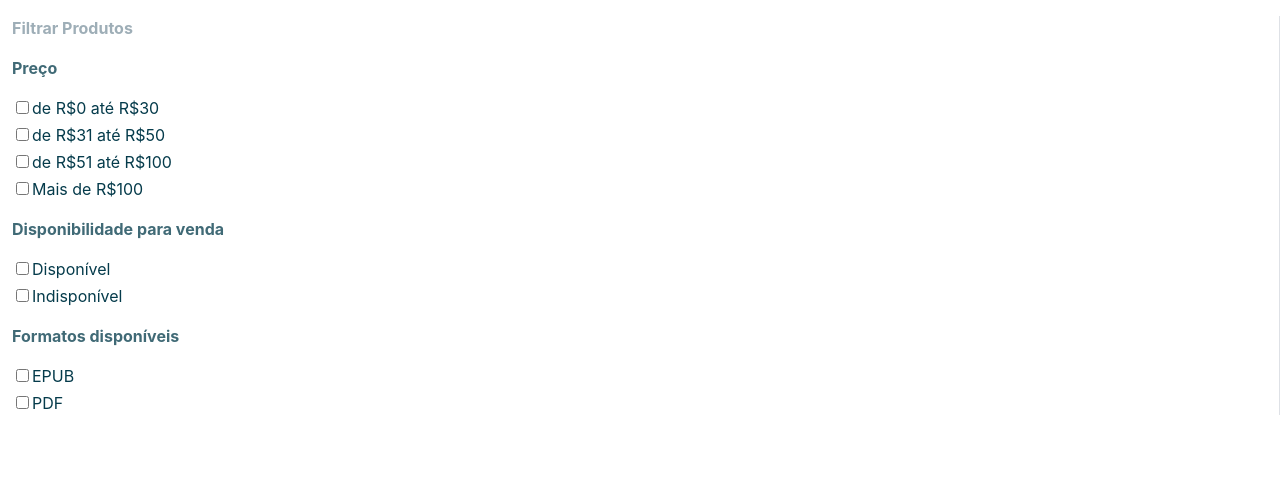
Test: Filter Component › deve exibir o botão de limpar filtro quando há itens selecionados
Click the checkbox next to "de R$0 até R$30" at (22, 108), box [16,101,29,114]
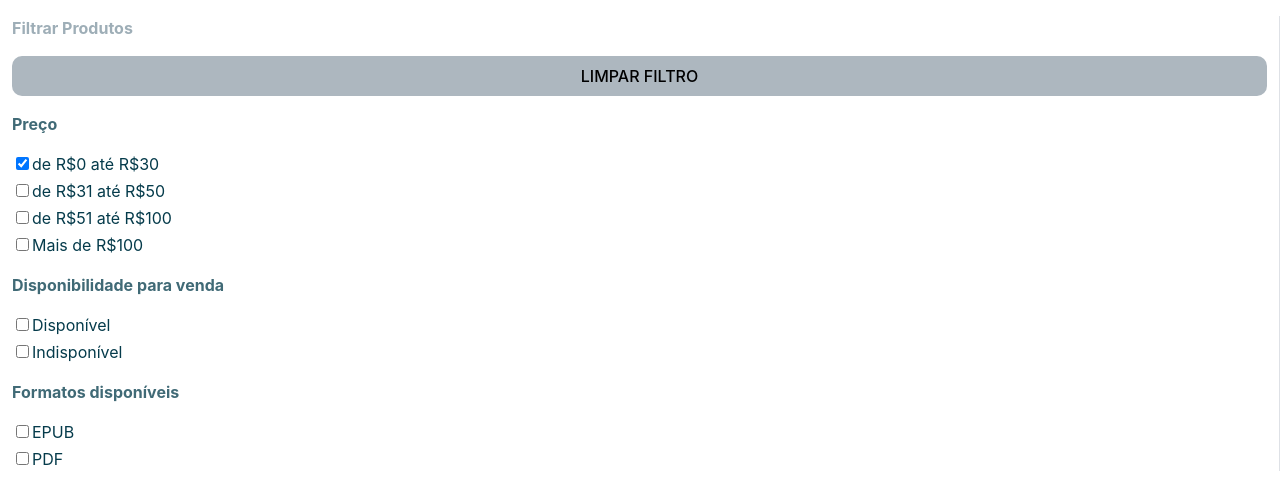
Result: the button "Limpar Filtro" is shown at [12,56,1267,96]
